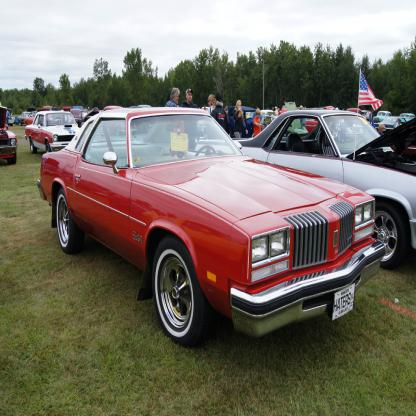Car: (0, 99, 416, 355)
